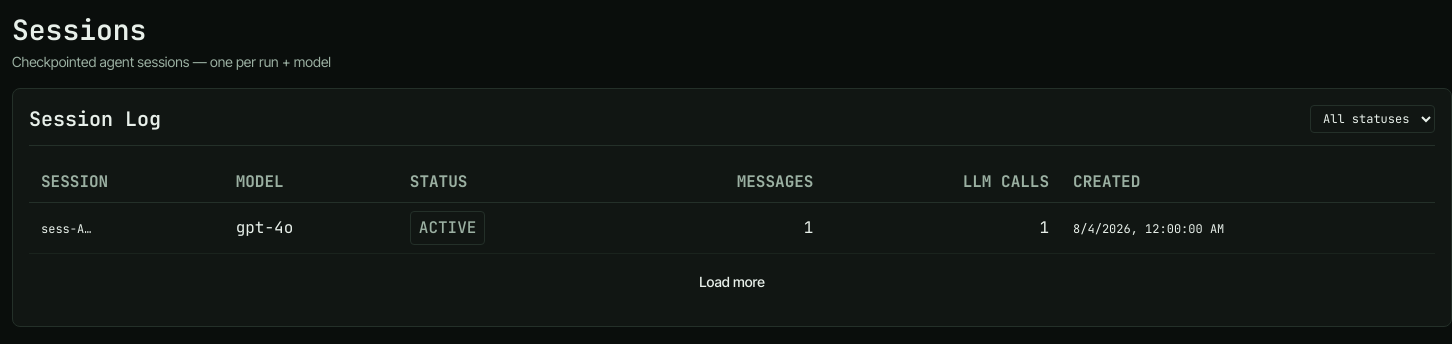
Test case: Sessions › appends the next page instead of replacing rows when Load more is clicked
The image size is (1452, 344).
Expected: the text "sess-A…" is shown, [41, 221, 91, 237]
Click the button "Load more": [732, 282] box [687, 266, 777, 298]
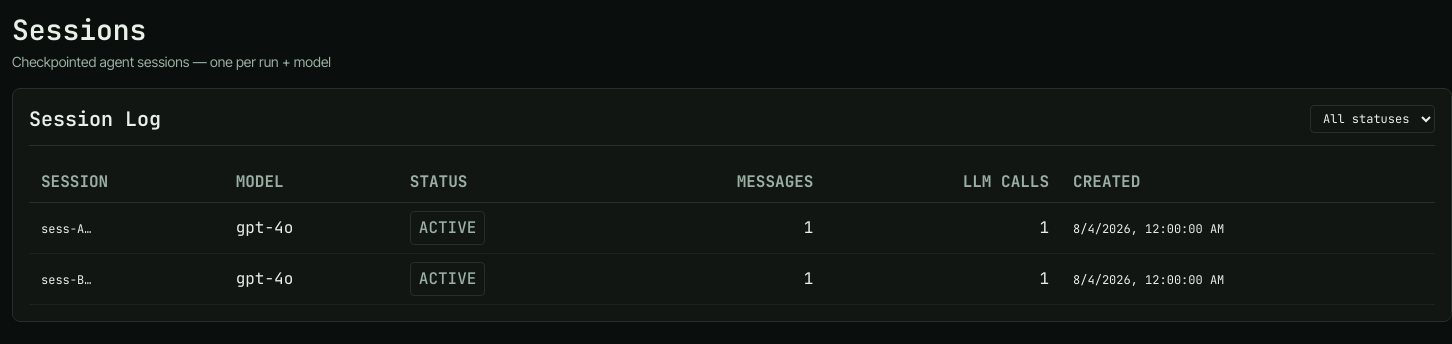
Expected: the text "sess-A…" is shown, [41, 221, 91, 237]
Expected: the text "sess-B…" is shown, [41, 272, 91, 288]
Expected: the button "Load more" is gone
